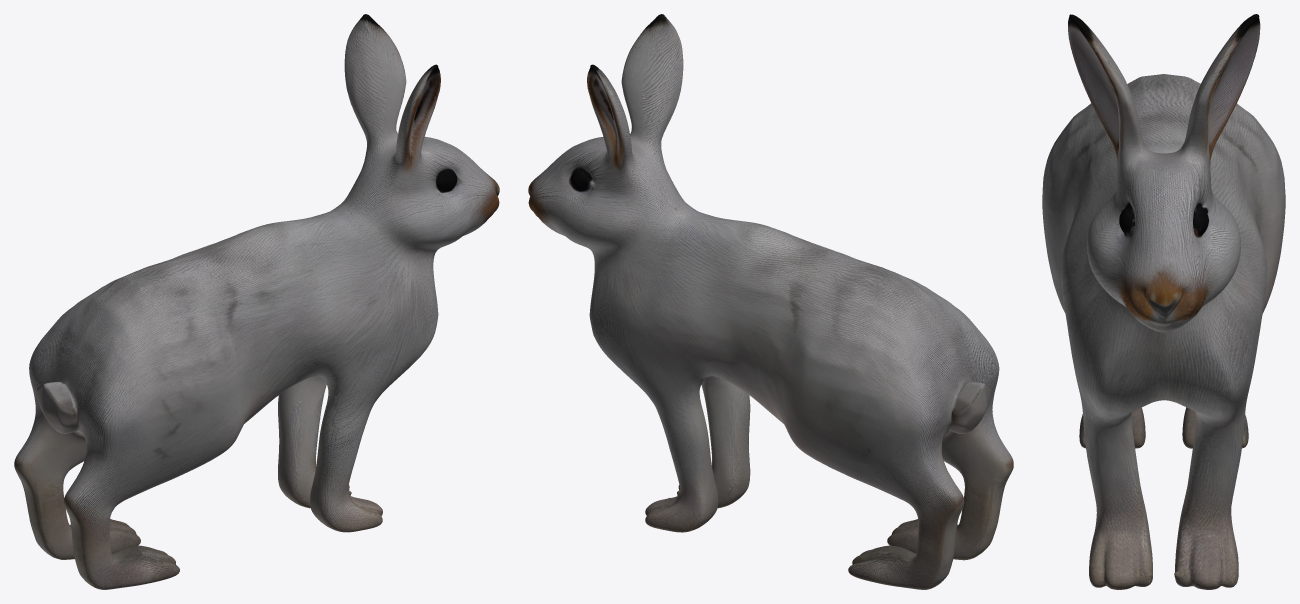
Rendered from belyak.glb.
3 views of the same model, side by side, from view 1: azimuth 30°, elevation 25°; view 2: azimuth 150°, elevation 25°; view 3: azimuth 270°, elevation 25° (orthographic). The views are drawn at different scales.
Visible parts, largest first — view 1: tripo_node_ede2f672-2710-4b89-bee7-f60cd7fa1e0b; view 2: tripo_node_ede2f672-2710-4b89-bee7-f60cd7fa1e0b; view 3: tripo_node_ede2f672-2710-4b89-bee7-f60cd7fa1e0b.
Part boxes in pixels (x1,y1,x2,y2): tripo_node_ede2f672-2710-4b89-bee7-f60cd7fa1e0b: (14, 14, 499, 589); tripo_node_ede2f672-2710-4b89-bee7-f60cd7fa1e0b: (528, 14, 1013, 589); tripo_node_ede2f672-2710-4b89-bee7-f60cd7fa1e0b: (1042, 14, 1285, 589).
Bounding box in the file's own units: 0.9494 × 0.9089 × 0.3312.
Materials: 1 (1 with a texture image).
